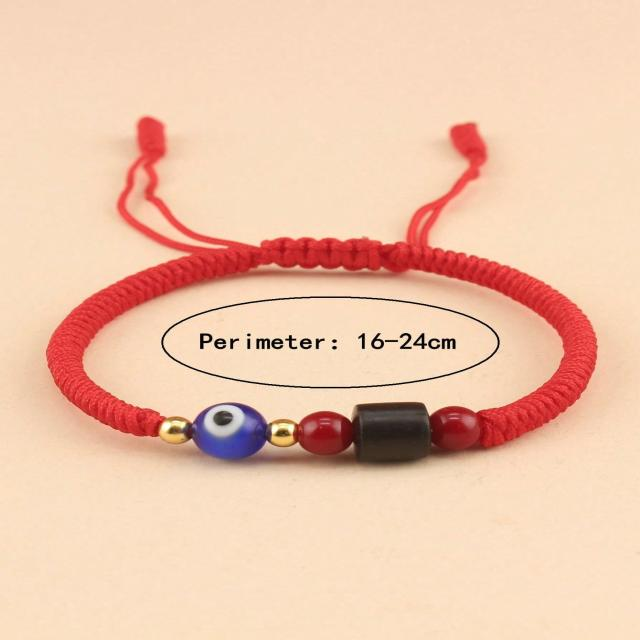bracelet: (27, 77, 640, 488)
